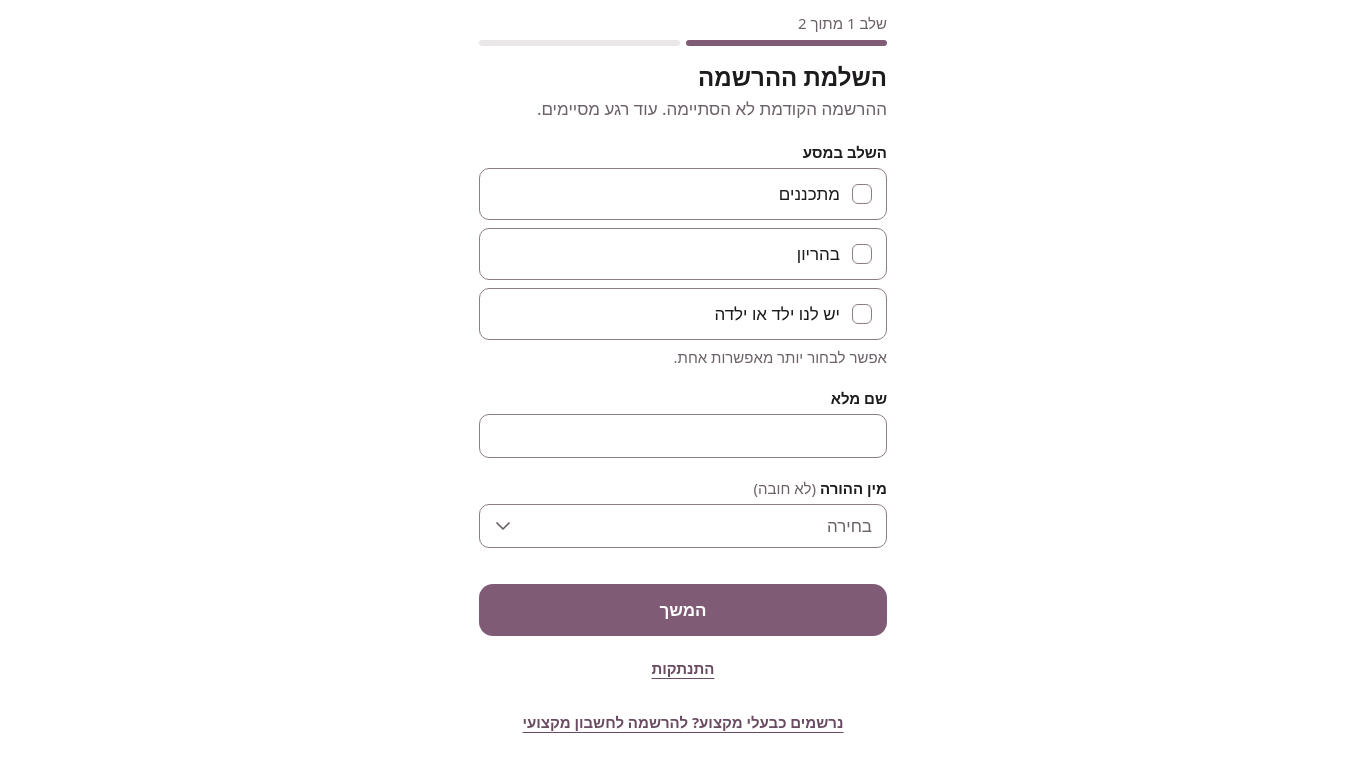
Test: [F1.5 c16] submitting the completion › [c16][AC-091] 201: POST /api/register with the held session and no sign-up; then /feed; the body carries step 1 and consent, never email or password
Expected: the heading "השלמת ההרשמה" is shown, [698,60,887,93]
Click the checkbox labelled "מתכננים" at (809, 194), box [479,168,887,220]
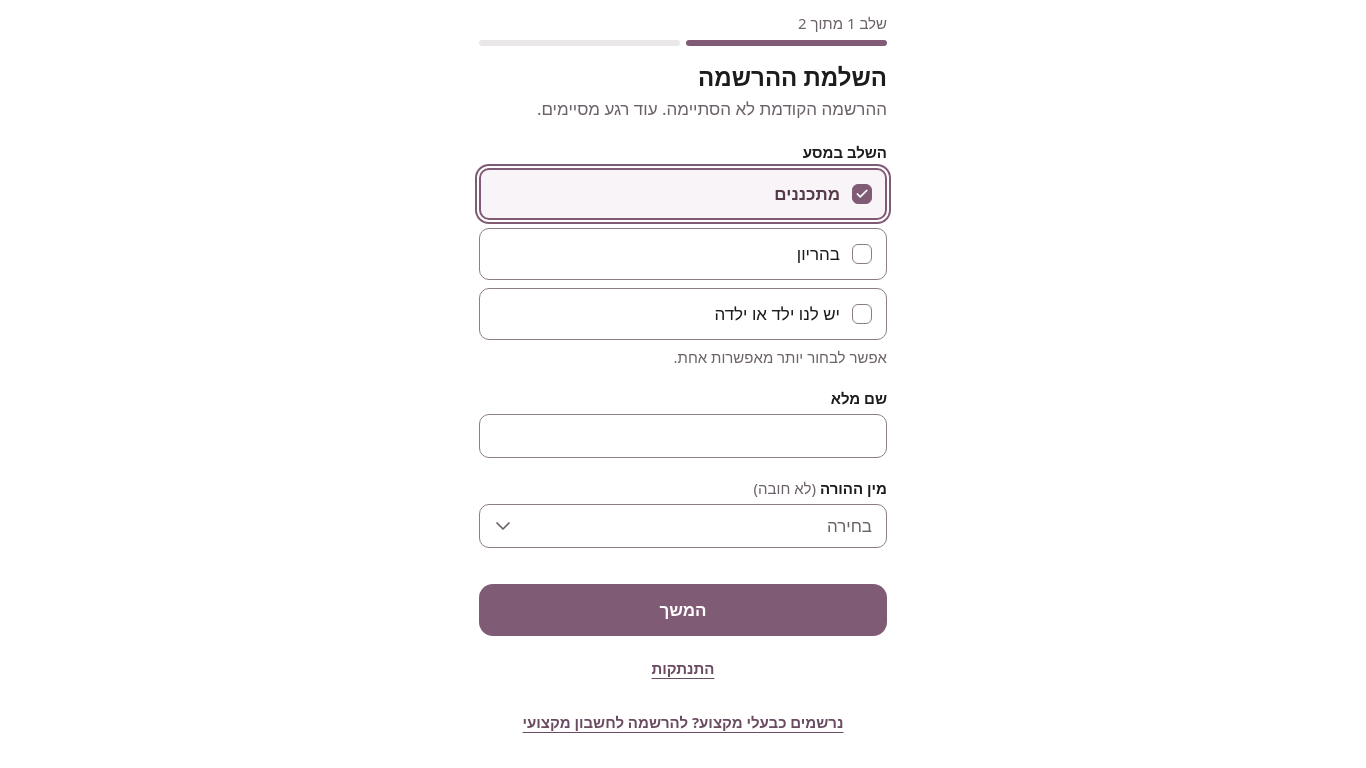
Type "דנה כהן" into the field labelled "שם מלא" at (683, 436), box [479,414,887,458]
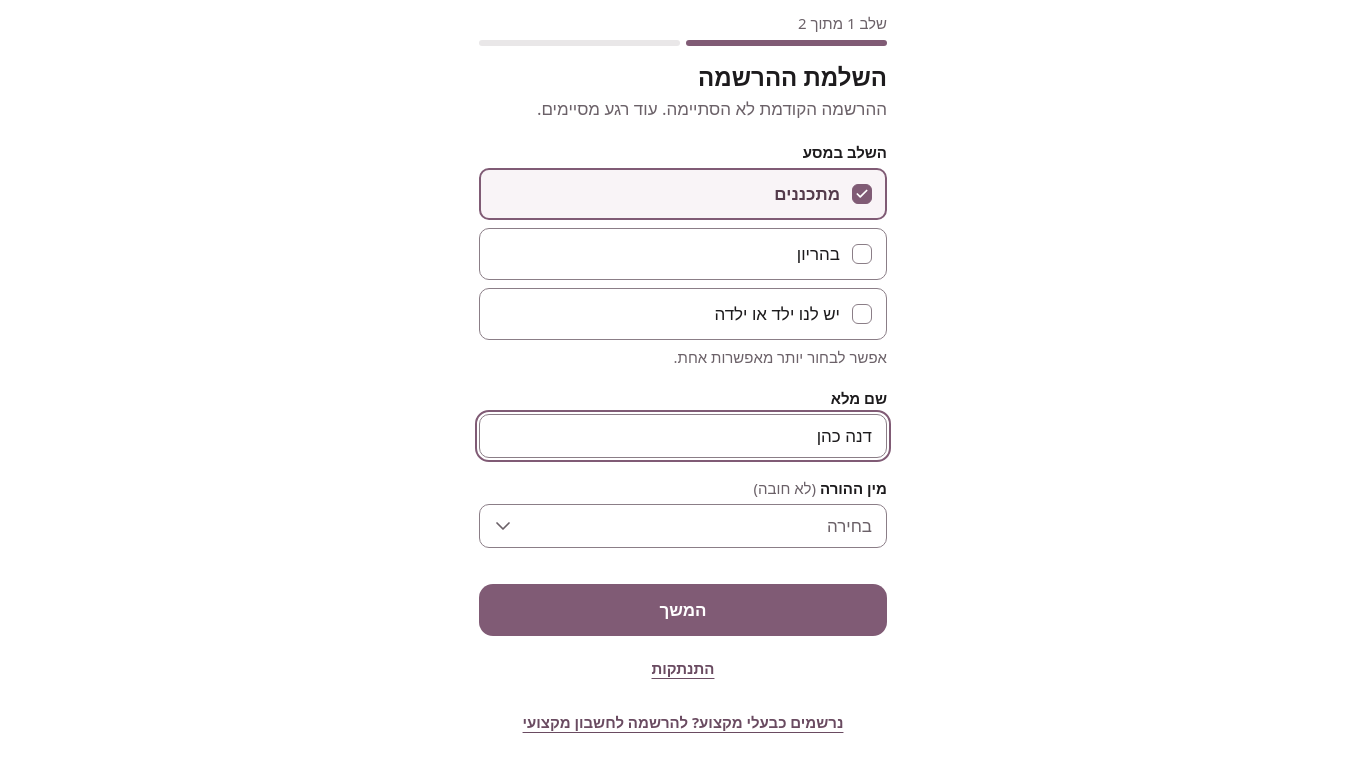
Click the button "המשך" at (683, 610), box [479,584,887,636]
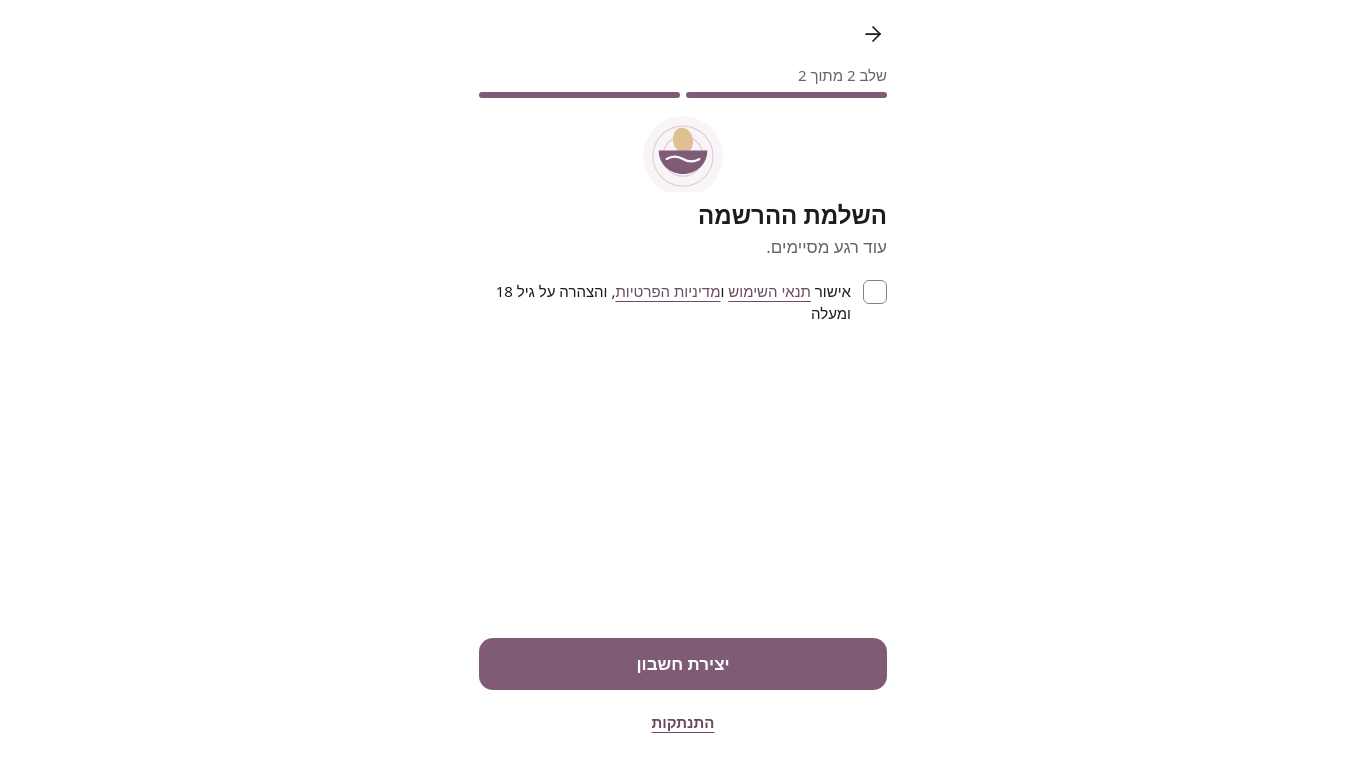
Result: the checkbox named "אישור תנאי השימוש ומדיניות הפרטיות, והצהרה על גיל 18 ומעלה" is shown
Click the checkbox named "אישור תנאי השימוש ומדיניות הפרטיות, והצהרה על גיל 18 ומעלה" at (875, 292), box [863,280,887,304]
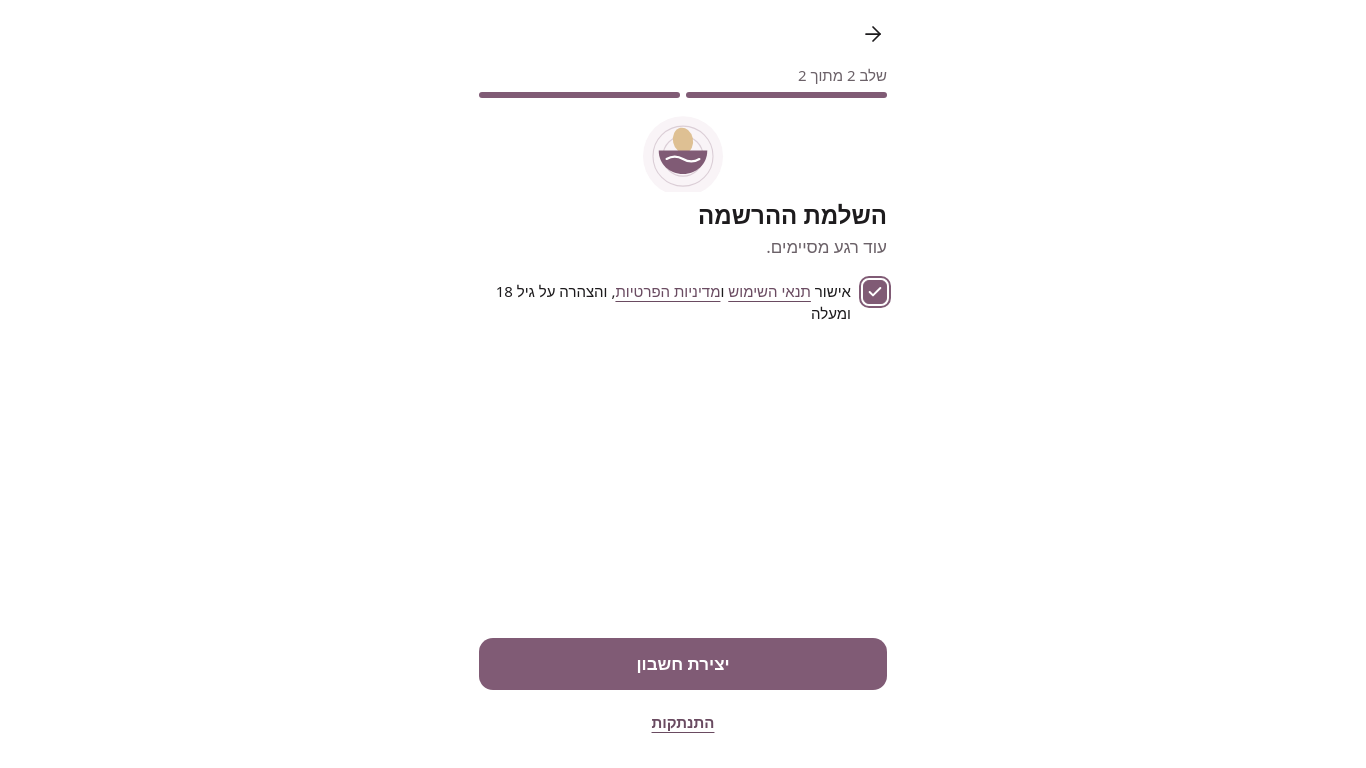
Click the button "יצירת חשבון" at (683, 664), box [479,638,887,690]
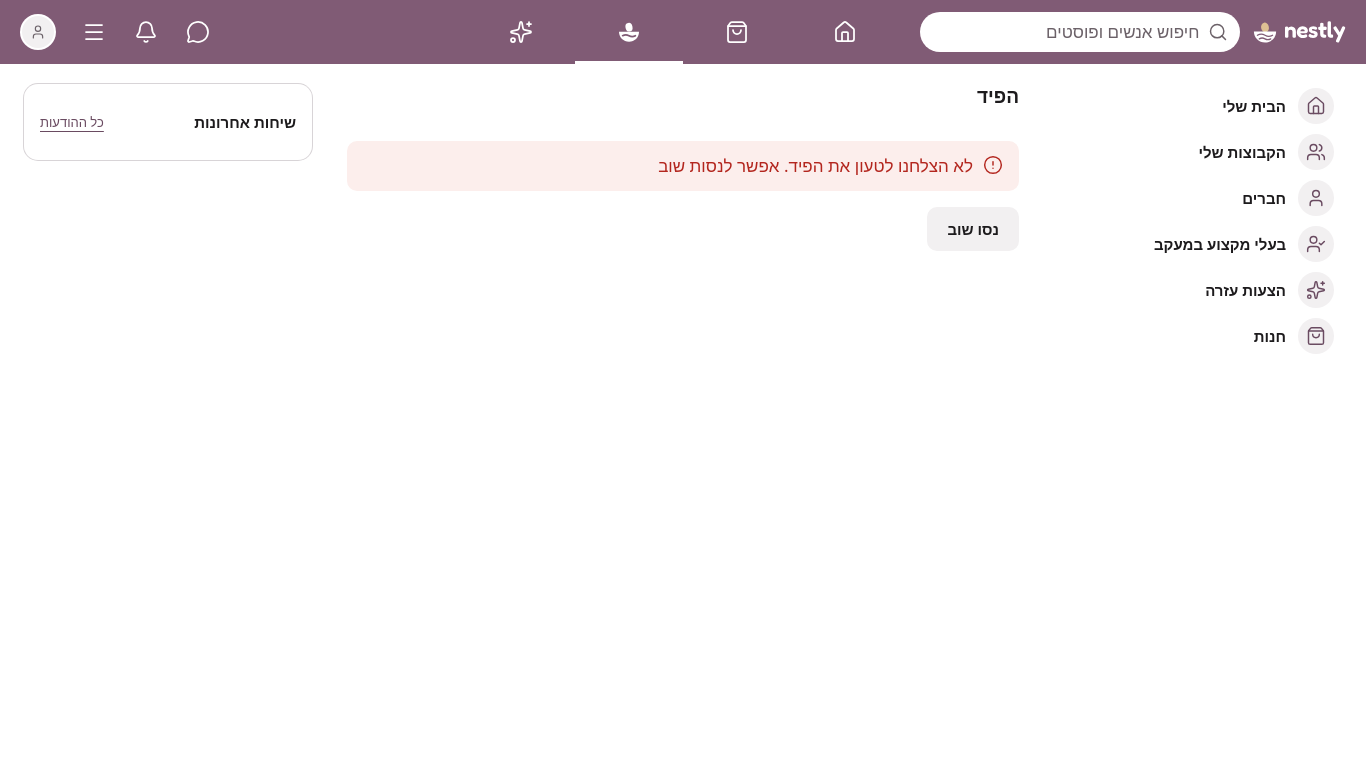
Result: the heading "הפיד" is shown at [977,83,1019,109]
